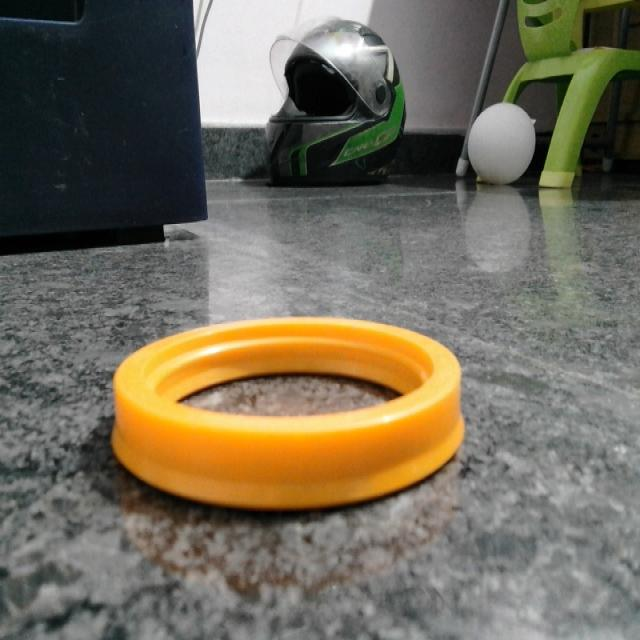orange-L-ring: (111, 317, 464, 510)
